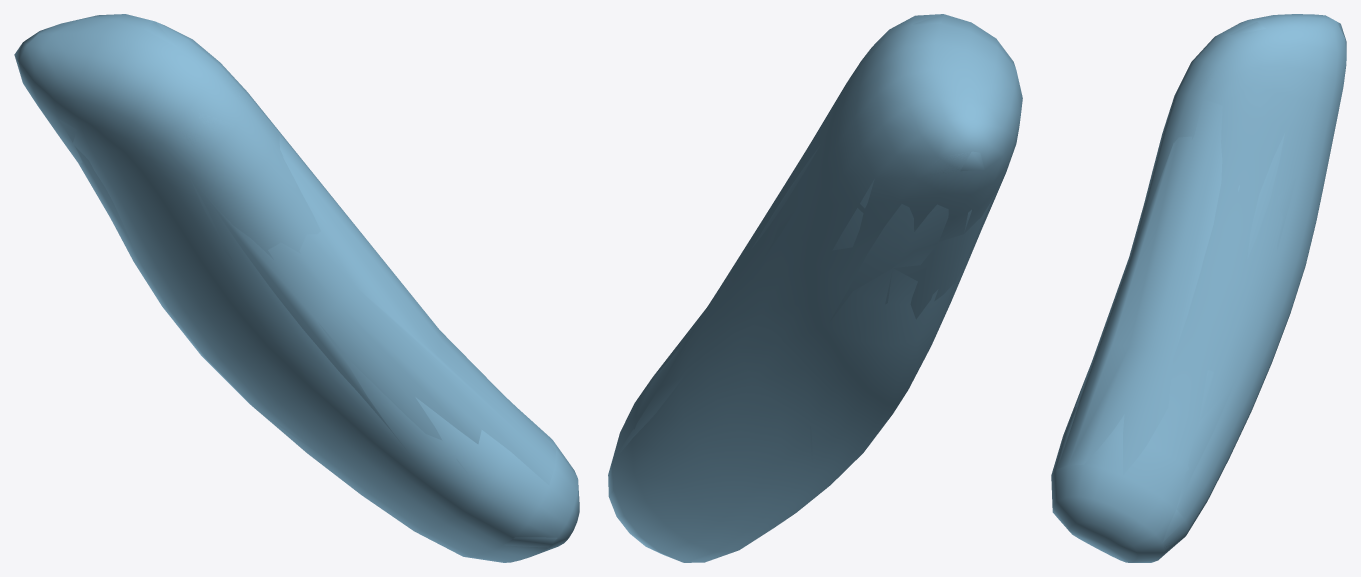
3 renders of one model, left to right at view 1: azimuth 30°, elevation 25°; view 2: azimuth 150°, elevation 25°; view 3: azimuth 270°, elevation 25°, orthographic. The views are drawn at different scales.
Parts seen in each view (by area): view 1: CC R1, CC R1 low; view 2: CC R1, CC R1 low; view 3: CC R1, CC R1 low.
Part boxes in pixels (x1,y1,x2,y2): CC R1: [14, 14, 579, 562]; CC R1 low: [14, 21, 557, 547]; CC R1: [608, 14, 1022, 562]; CC R1 low: [609, 14, 994, 559]; CC R1: [1051, 14, 1346, 562]; CC R1 low: [1057, 22, 1335, 547].
Bounding box in the file's own units: 5.14 × 6.48 × 4.02.
